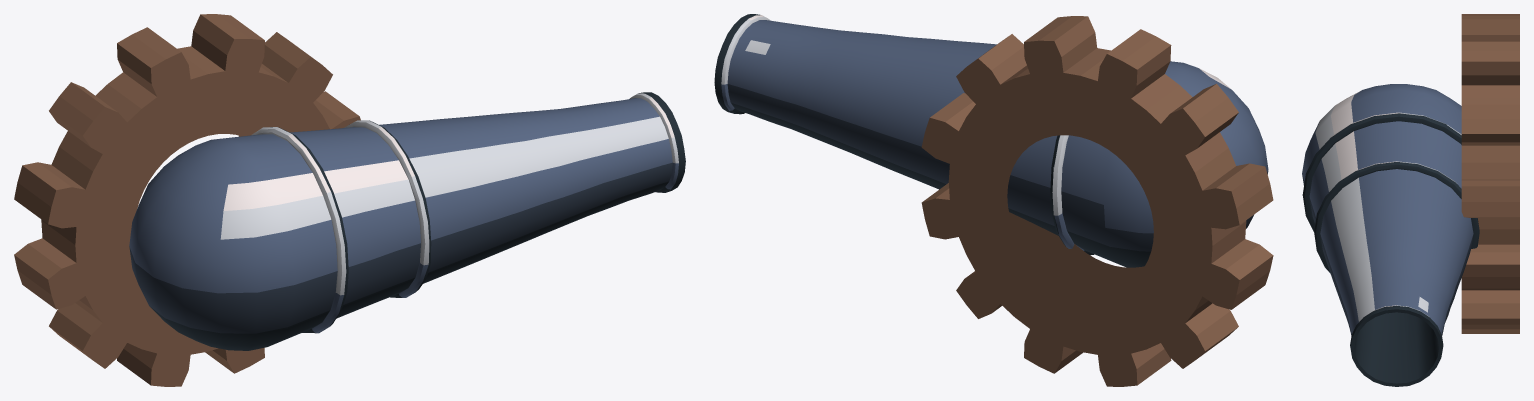
The model's file is turret_3_2.glb.
The picture shows the model from 3 angles, left to right: view 1: azimuth 30°, elevation 25°; view 2: azimuth 150°, elevation 25°; view 3: azimuth 270°, elevation 25°; orthographic projection. The views are drawn at different scales.
Visible parts, largest first — view 1: 2, gear; view 2: gear, 2; view 3: 2, gear.
Boxes of the visible parts, <box> form: 2: <box>129,92,685,350</box>; gear: <box>14,14,360,386</box>; gear: <box>921,16,1273,386</box>; 2: <box>714,14,1268,267</box>; 2: <box>1302,84,1479,386</box>; gear: <box>1461,14,1519,333</box>.
Size of the model in its own units: 2.51 by 1.4 by 0.9638.
